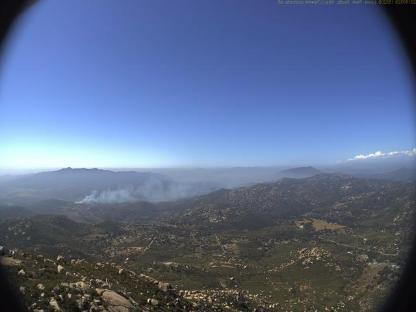smoke: (75, 166, 242, 206)
